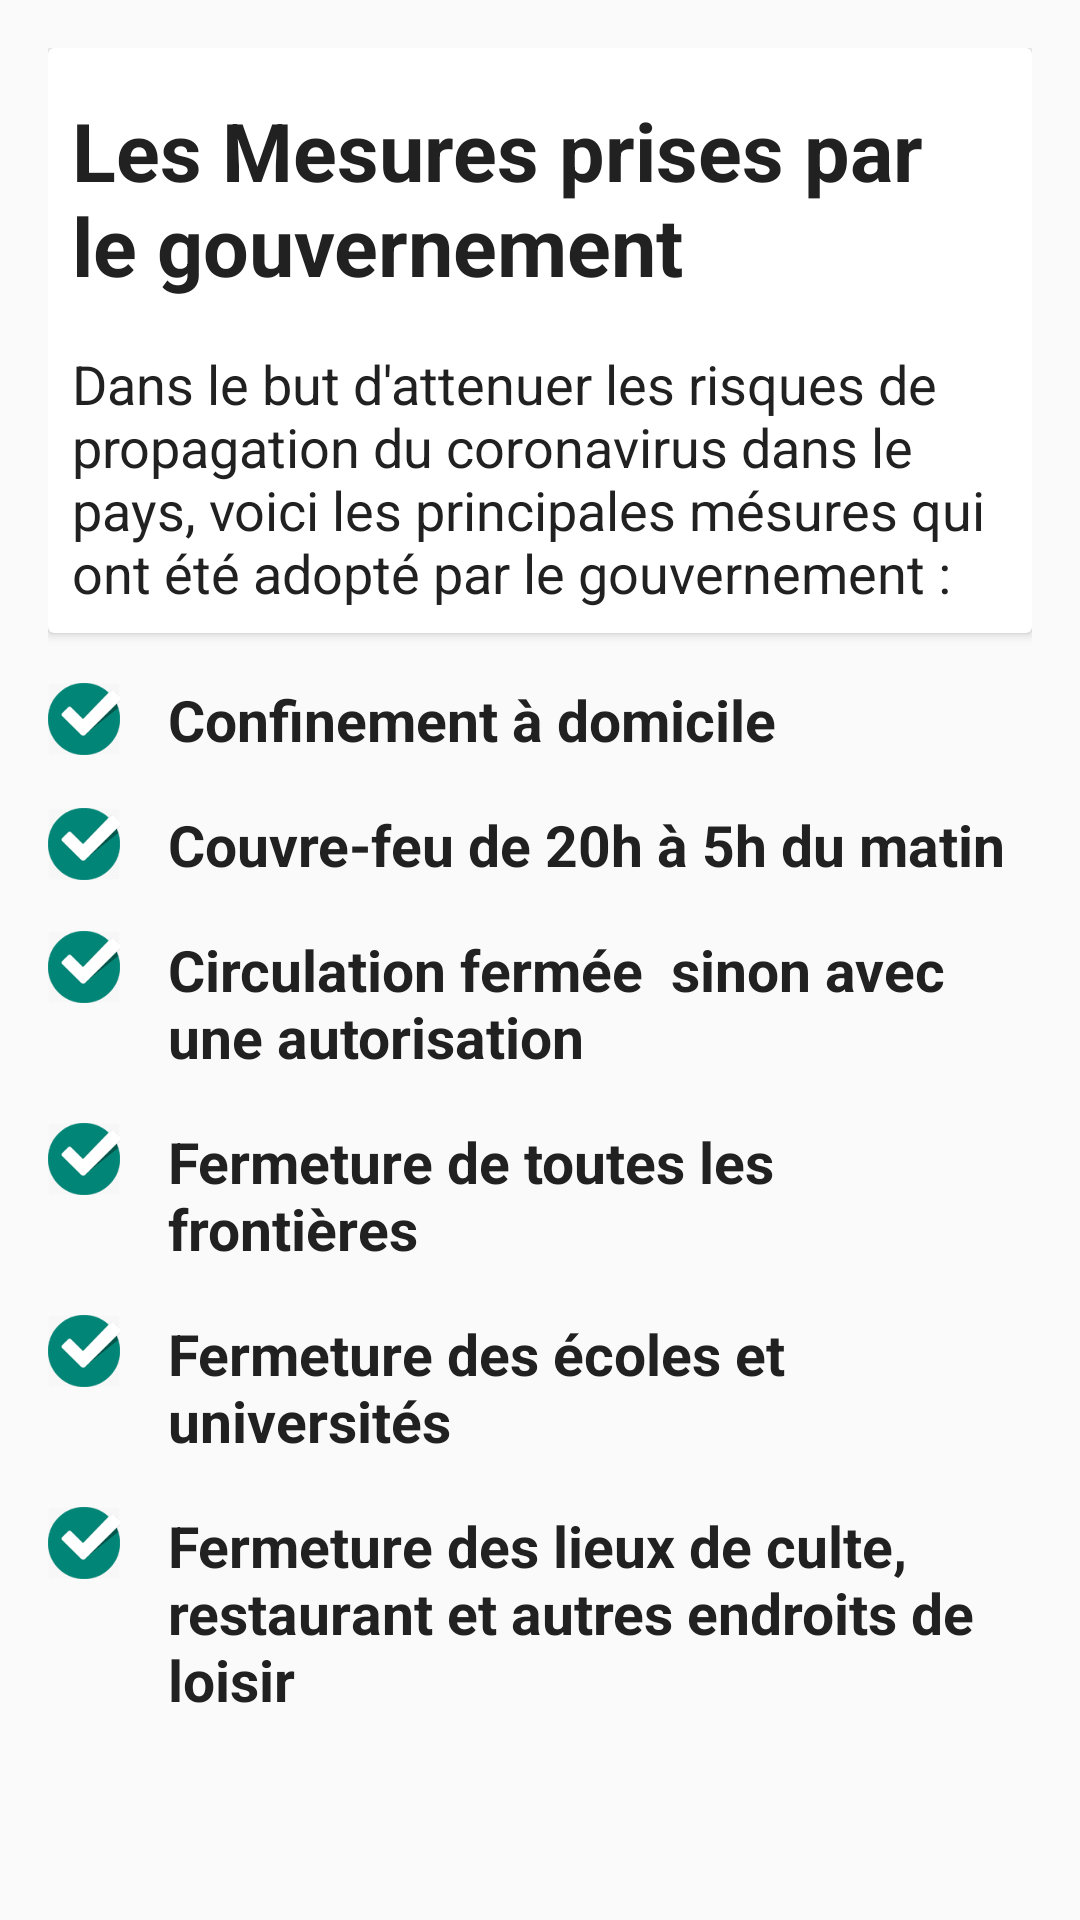

Screen size 1080*1920. Icon name, then its box in pixels as bbox=[x1, y1, x2, y2]:
checked: bbox=[48, 683, 120, 755], bbox=[48, 808, 120, 880], bbox=[48, 931, 120, 1003], bbox=[48, 1123, 120, 1195], bbox=[48, 1315, 120, 1387], bbox=[48, 1507, 120, 1579]
